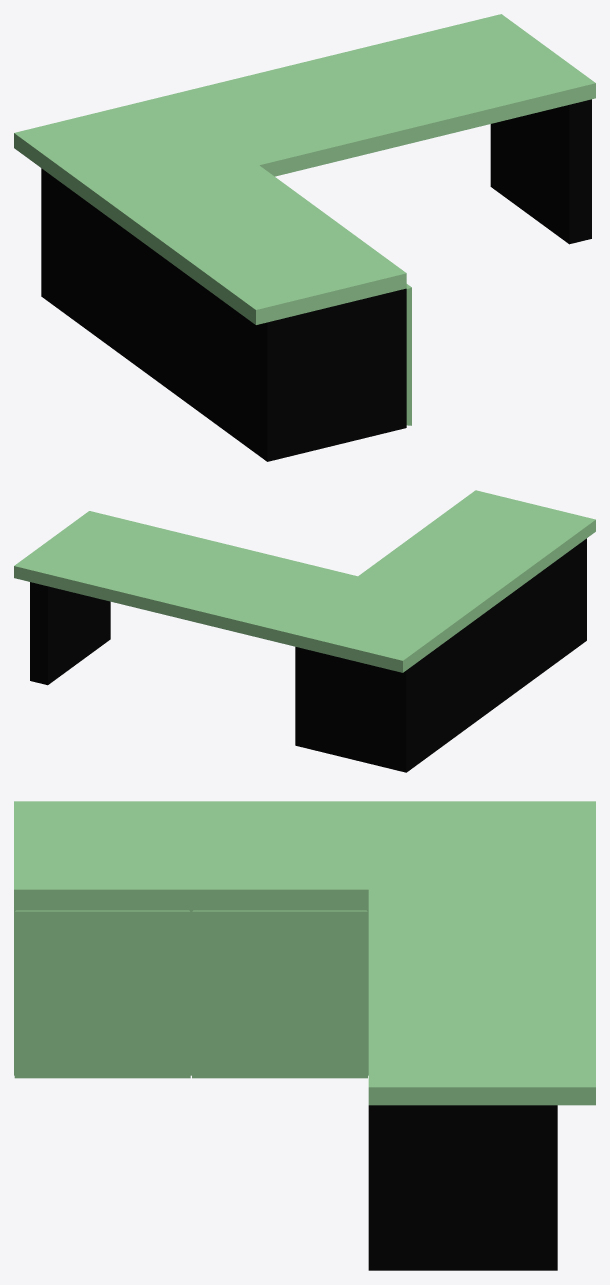
File: Office_Warna_v2.fbx_o_desk.fbx
3 views of the same model, one above another, from view 1: azimuth 30°, elevation 25°; view 2: azimuth 150°, elevation 25°; view 3: azimuth 270°, elevation 25° (orthographic). The views are drawn at different scales.
Parts seen in each view (by area): view 1: o_desk; view 2: o_desk; view 3: o_desk.
Part boxes in pixels (x1,y1,x2,y2): o_desk: (14, 14, 595, 461); o_desk: (14, 490, 595, 772); o_desk: (14, 801, 595, 1270).
Size of the model in its own units: 350 by 301 by 106.
